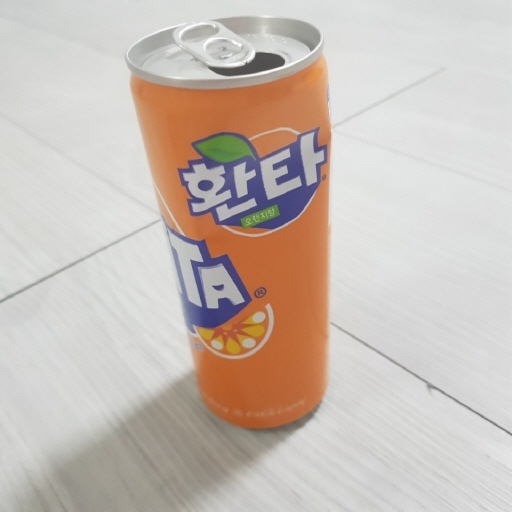Metal_0: (126, 12, 332, 428)
